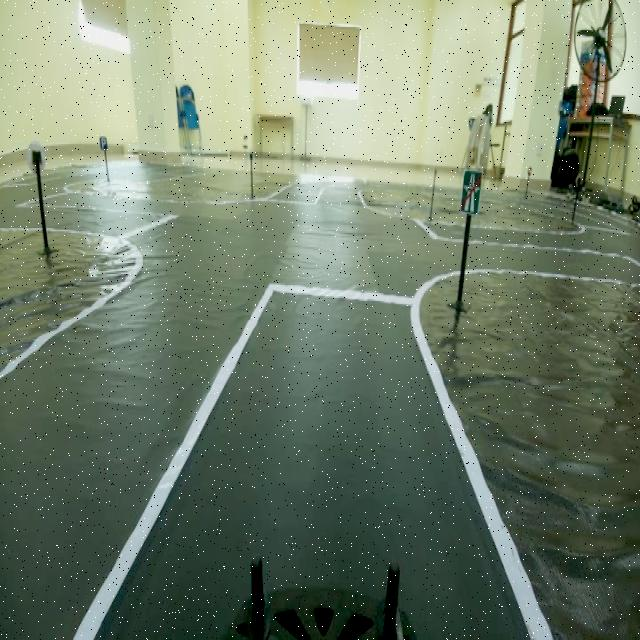highway_exit: (457, 166, 486, 226)
